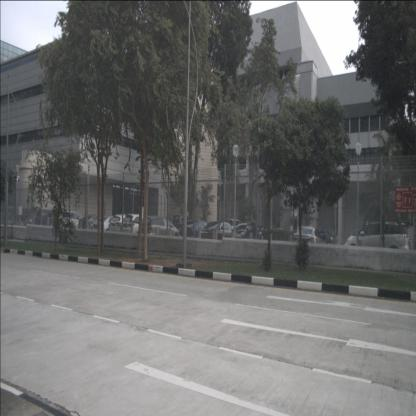vehicle-car: (343, 220, 411, 260), (201, 221, 242, 249), (120, 213, 155, 241), (143, 216, 179, 243), (292, 225, 324, 252), (179, 220, 214, 242), (92, 215, 126, 236), (24, 208, 56, 230), (109, 213, 137, 238), (56, 210, 86, 233), (78, 214, 110, 234), (38, 210, 65, 229), (234, 222, 256, 241), (224, 219, 245, 233), (255, 225, 274, 240), (312, 228, 330, 243)
